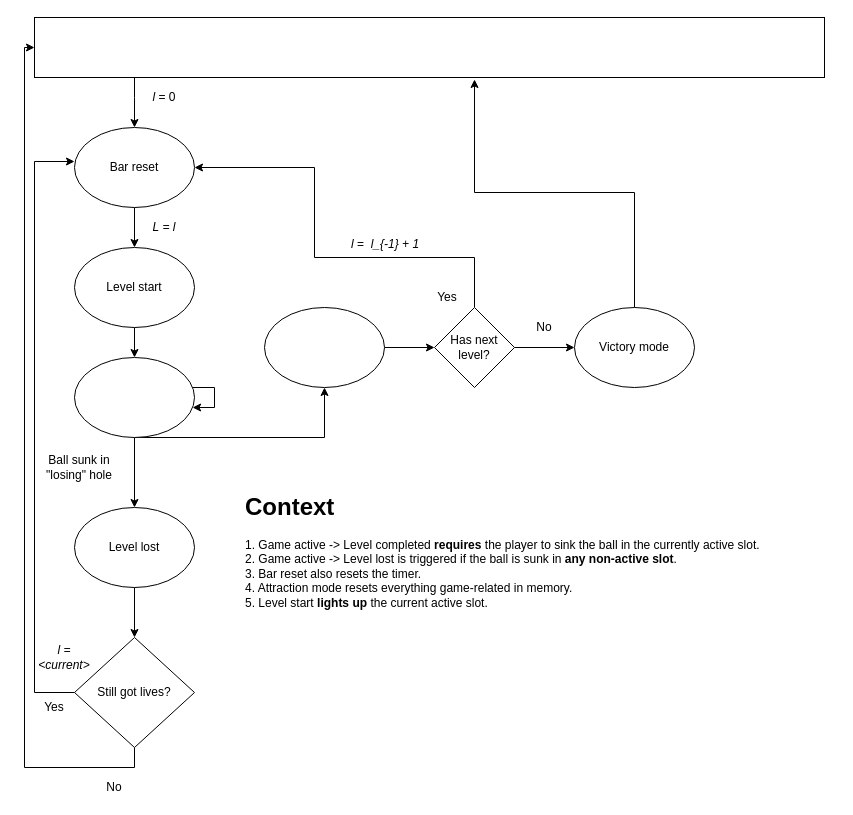
Image size: 853x815. Some labels were removed from this diagram. Each missing label, with the centre of its shape:
"Attraction mode" belongs at pixel 429 47.
"Game active" belongs at pixel 134 397.
"Level completed" belongs at pixel 324 347.
